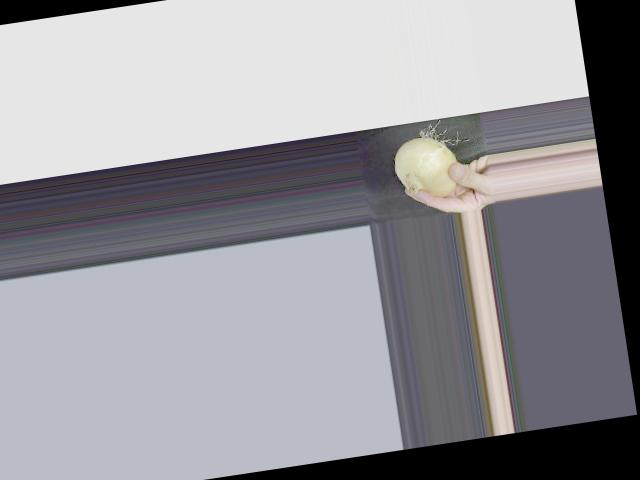onion: (392, 132, 460, 203)
